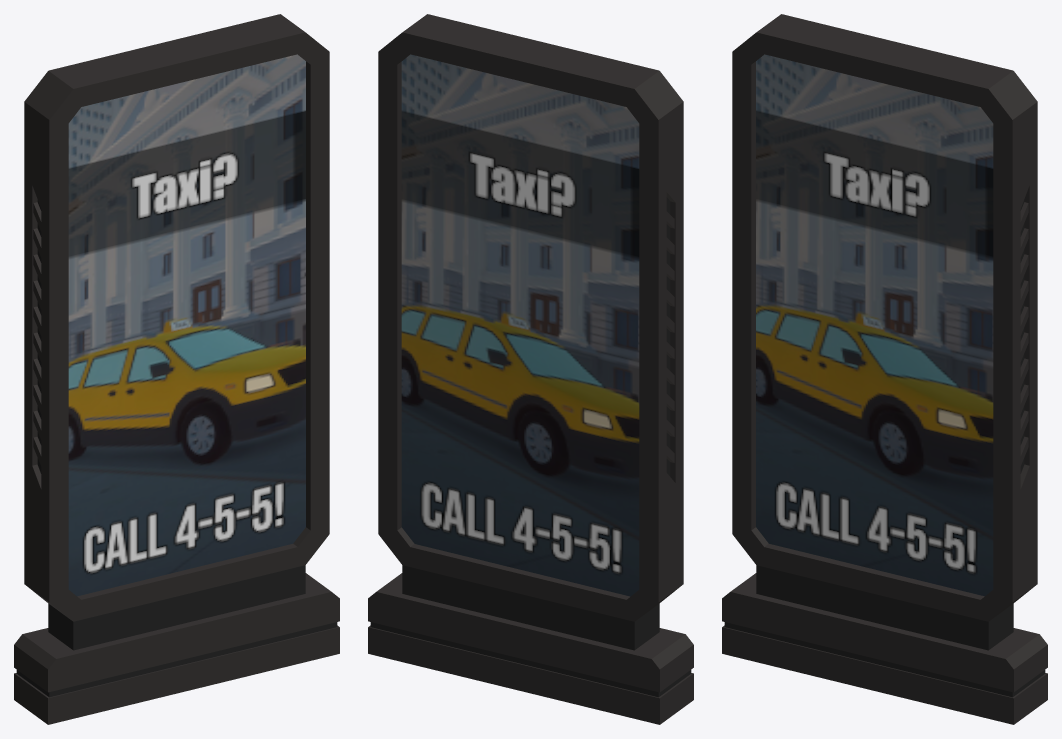
File: SM_Props_Ads_01.fbx
3 views of the same model, side by side, from view 1: azimuth 30°, elevation 25°; view 2: azimuth 150°, elevation 25°; view 3: azimuth 330°, elevation 25° (orthographic).
Visible parts, largest first — view 1: SM_Props_Ads_01; view 2: SM_Props_Ads_01; view 3: SM_Props_Ads_01.
Boxes of the visible parts, box(x1,y1,x2,y2) form: SM_Props_Ads_01: box(14, 14, 339, 724); SM_Props_Ads_01: box(368, 14, 693, 724); SM_Props_Ads_01: box(722, 14, 1047, 724).
Bounding box in the file's own units: 0.9367 × 1.92 × 0.1891.
